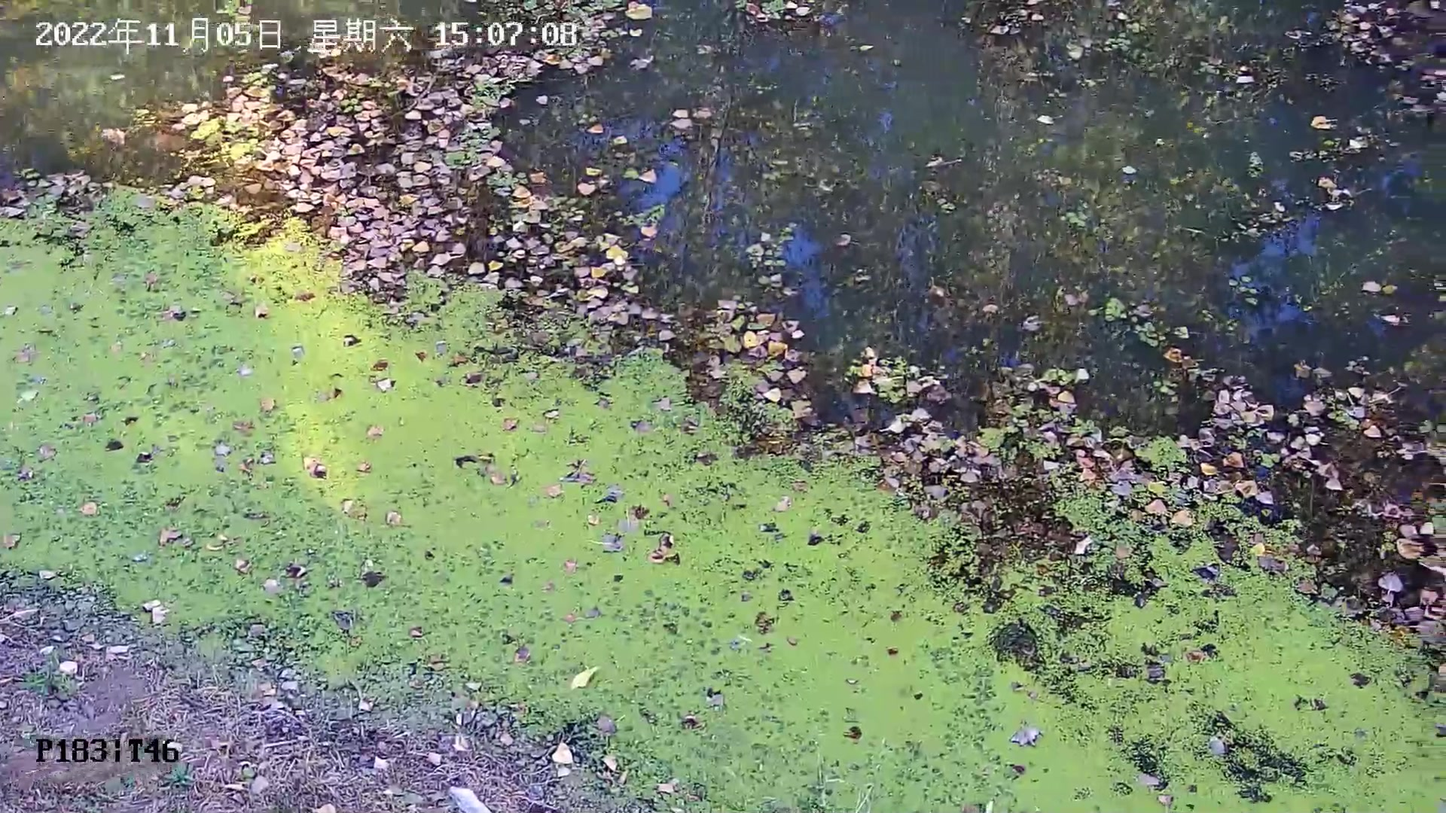floater: (2, 169, 848, 813), (847, 334, 1444, 813), (163, 1, 670, 324), (706, 299, 824, 428)
